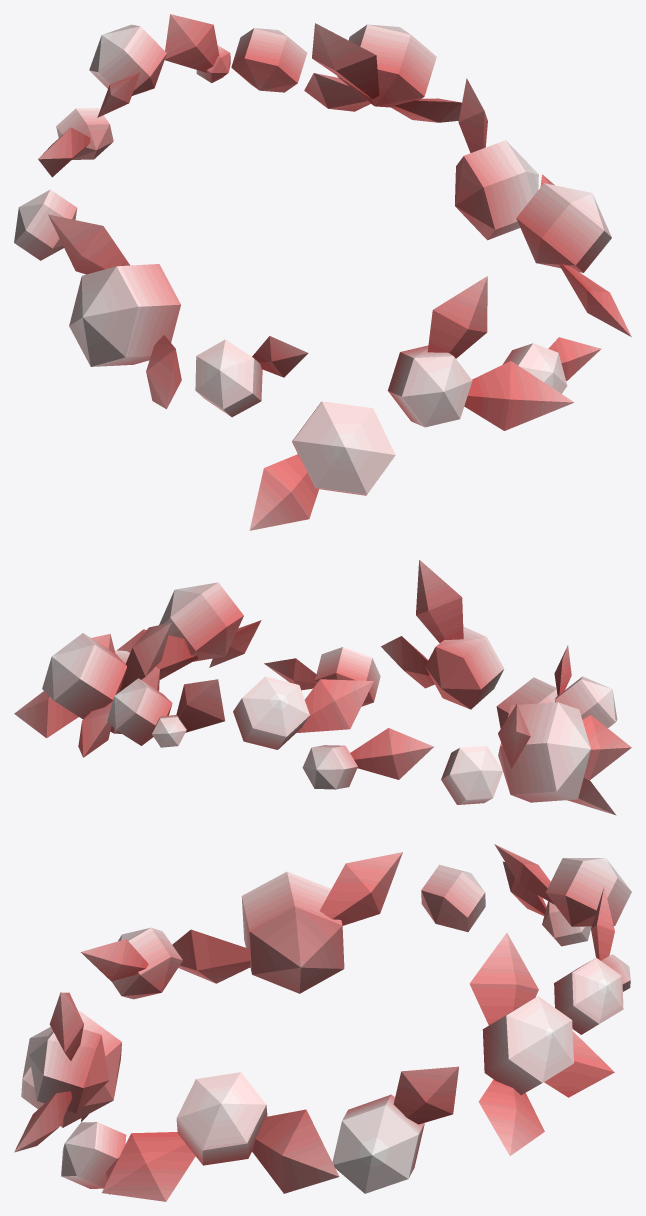
File: CharSkyKid_Horn_FlowerCrown_01.glb
3 renders of one model, top to bottom at view 1: azimuth 30°, elevation 25°; view 2: azimuth 150°, elevation 25°; view 3: azimuth 270°, elevation 25°, orthographic. The views are drawn at different scales.
Visible parts, largest first — view 1: CharSkyKid_Horn_FlowerCrown_01; view 2: CharSkyKid_Horn_FlowerCrown_01; view 3: CharSkyKid_Horn_FlowerCrown_01.
Boxes of the visible parts, x1=… form: CharSkyKid_Horn_FlowerCrown_01: x1=14, y1=14, x2=631, y2=530; CharSkyKid_Horn_FlowerCrown_01: x1=14, y1=560, x2=631, y2=815; CharSkyKid_Horn_FlowerCrown_01: x1=14, y1=844, x2=631, y2=1201.
Size of the model in its own units: 3.33 by 1.83 by 3.41.
1 material, 1 textured.
